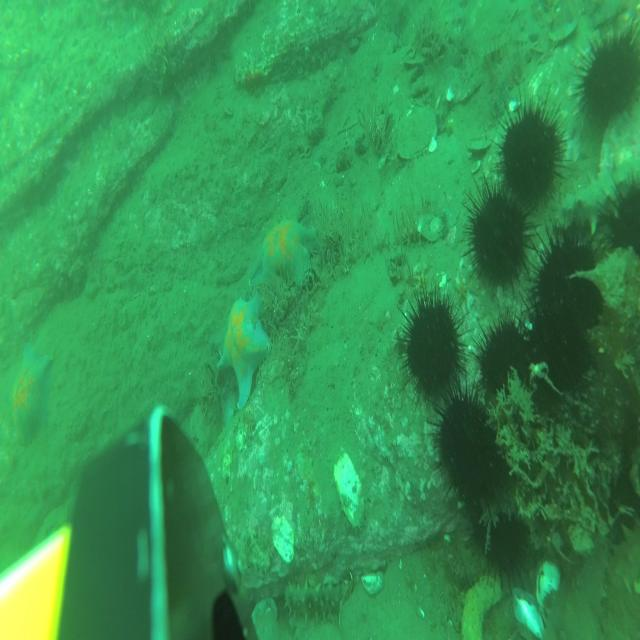echinus: (462, 168, 536, 303), (494, 84, 570, 215), (400, 276, 468, 414), (574, 18, 640, 142), (538, 212, 601, 336), (434, 383, 496, 507), (530, 295, 587, 412), (477, 302, 532, 416), (474, 492, 528, 587), (601, 168, 640, 268), (599, 455, 640, 543)
holothurian: (543, 538, 612, 640), (554, 169, 640, 235), (285, 574, 346, 624), (608, 520, 640, 592)
scallop: (397, 107, 437, 161), (246, 595, 278, 640), (418, 212, 446, 244)
starfish: (218, 289, 270, 409), (249, 216, 318, 294), (10, 337, 54, 451)
